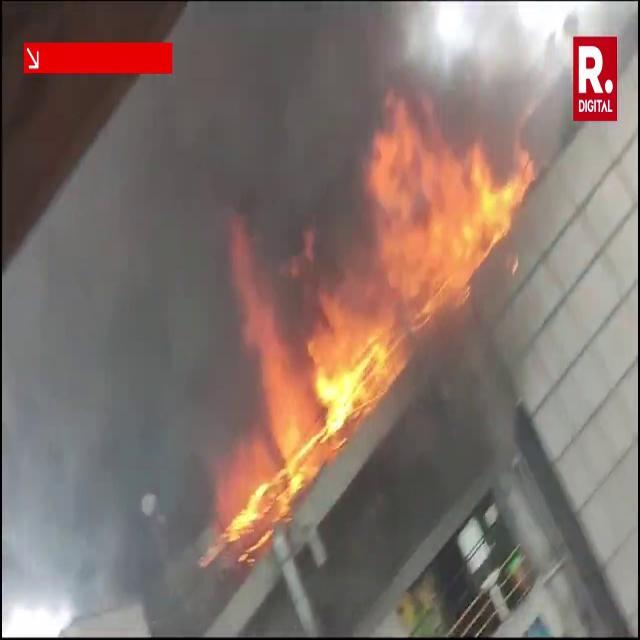Fire: (226, 85, 526, 548)
Smoke: (4, 96, 248, 634), (418, 2, 574, 160)
